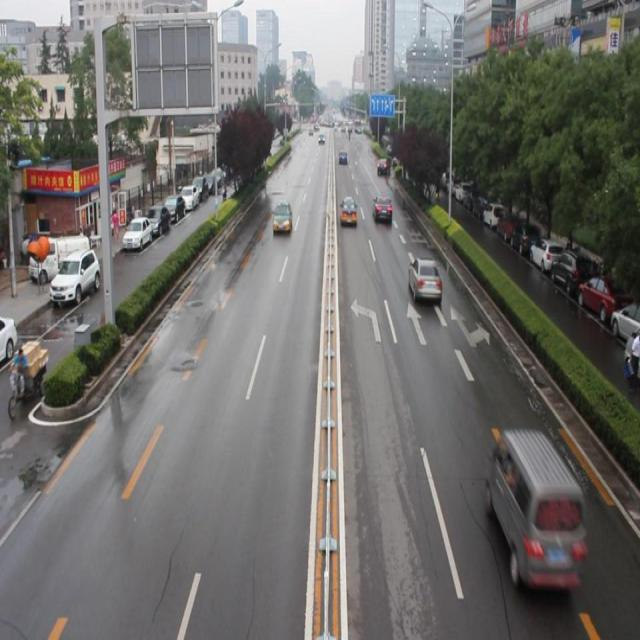car: (408, 256, 442, 300), (271, 200, 292, 233), (372, 192, 392, 223), (339, 194, 357, 227), (376, 158, 390, 177)
truck: (485, 426, 586, 596)
